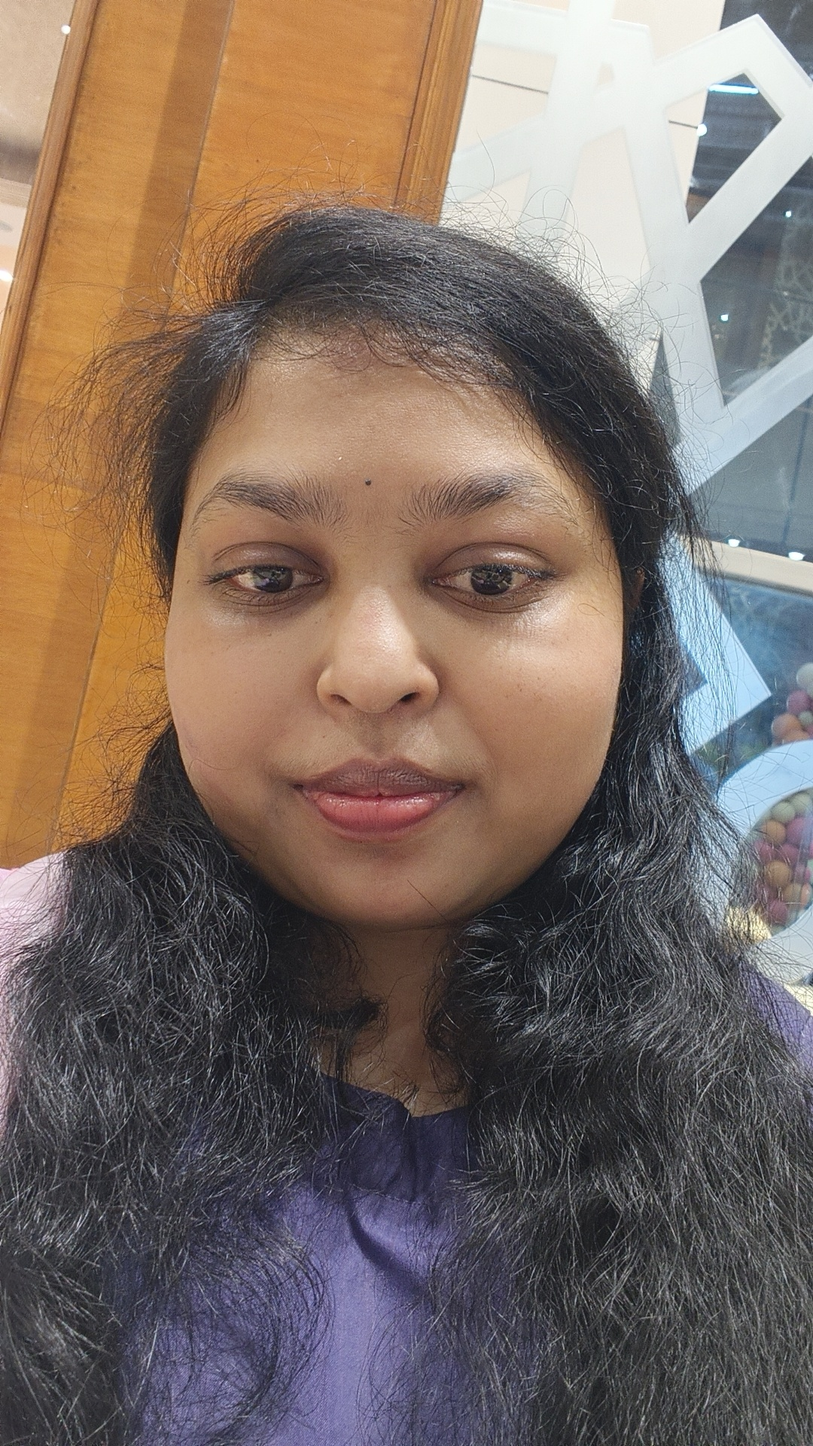closed_comedone: (363, 600, 398, 680), (338, 456, 345, 461)
